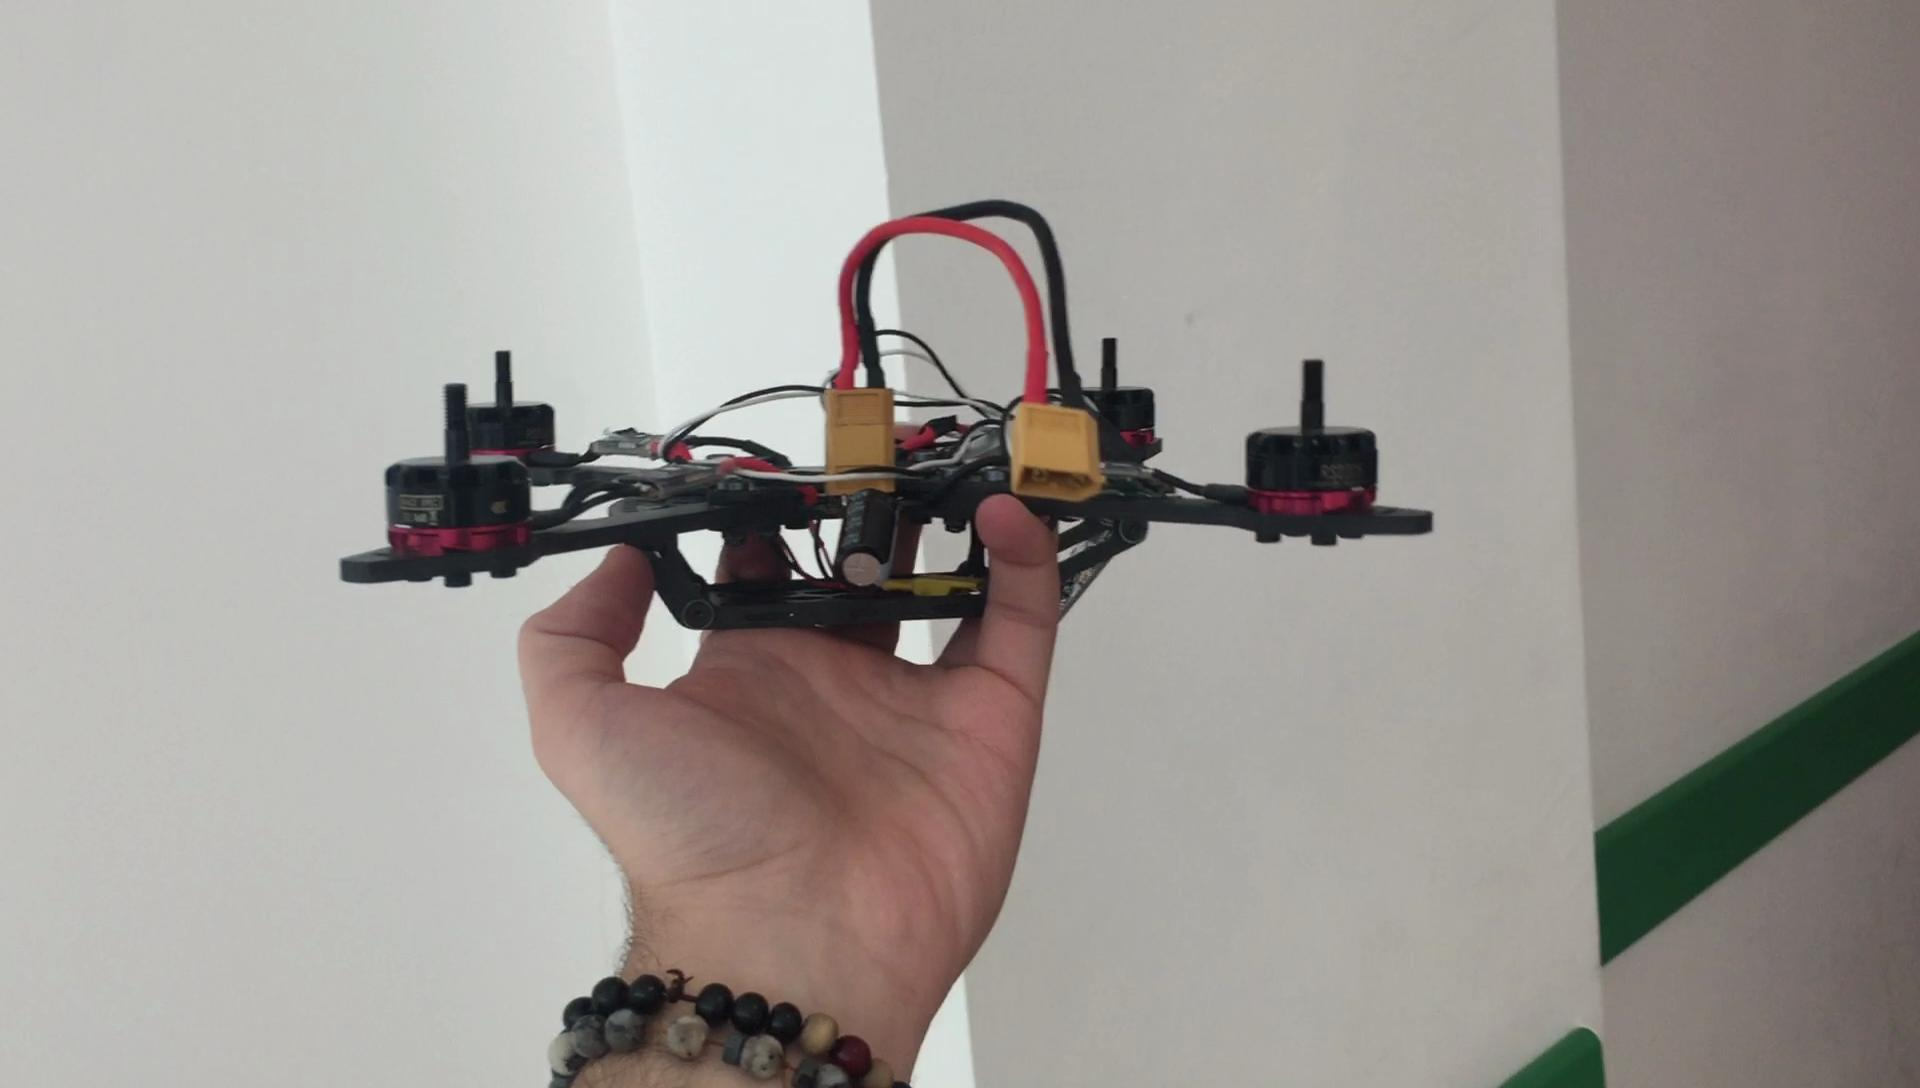drone: (335, 309, 1464, 663)
